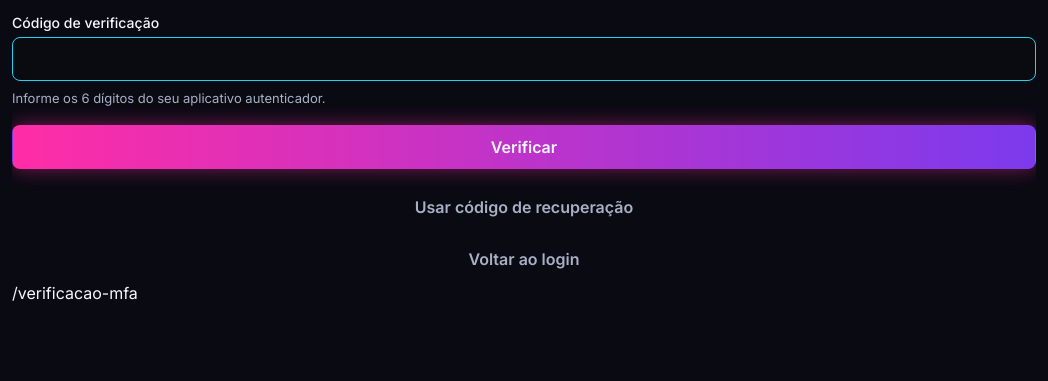
it: MfaForm (AUTH-004) › CA-019: tentativas limitadas informam o tempo de espera
Type "000000" into the field labelled "Código de verificação".
click(524, 59); type("000000")  # box 12,37 -> 1036,81
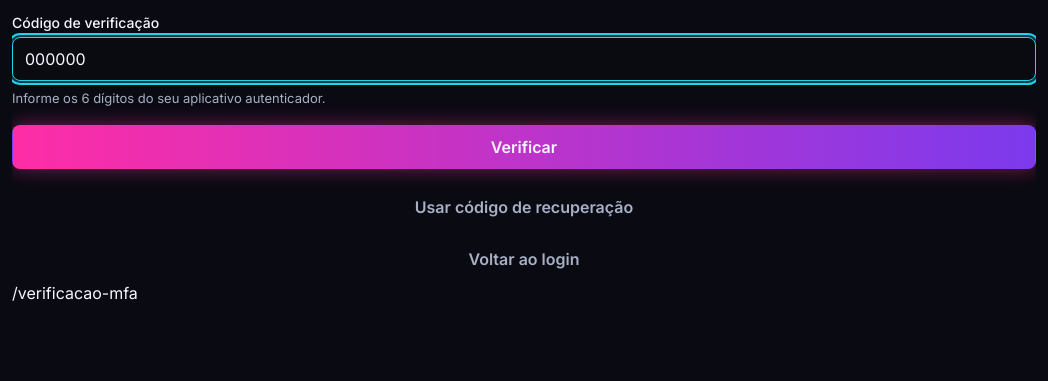
Click the button "Verificar".
click(524, 146)  # box 12,124 -> 1036,168
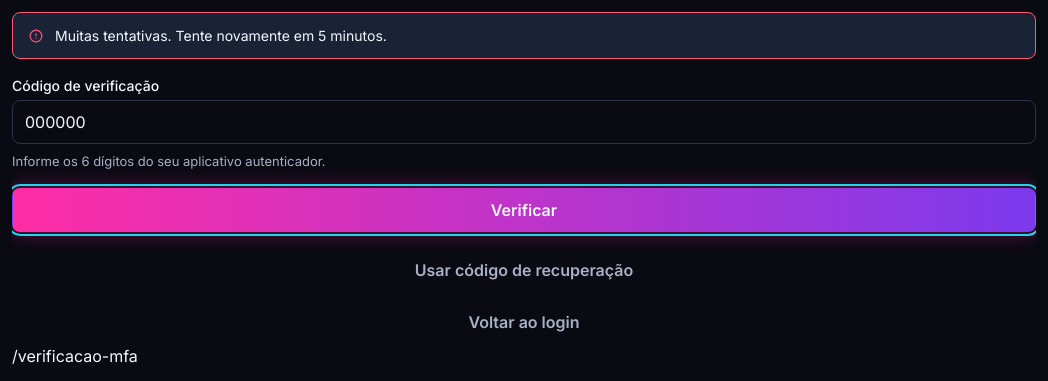
Result: the message shows "Tente novamente em 5 minutos." at 55,27 -> 387,44
